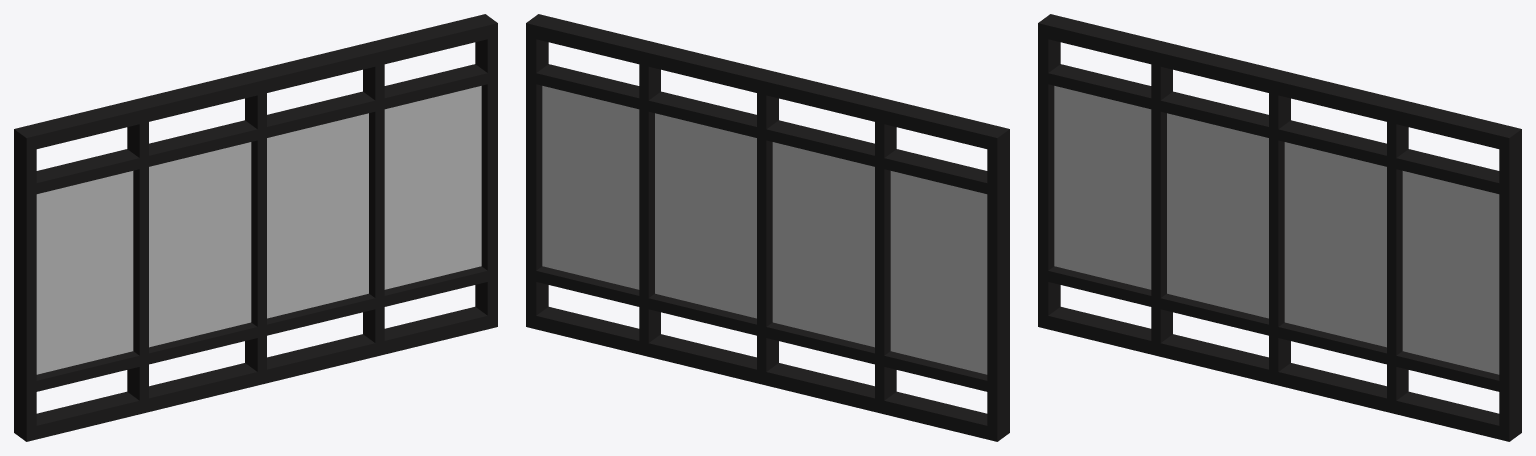
The model's file is LC_3004_false_wall_LOD1.FBX.
3 renders of one model, left to right at view 1: azimuth 30°, elevation 25°; view 2: azimuth 150°, elevation 25°; view 3: azimuth 330°, elevation 25°, orthographic.
Visible parts, largest first — view 1: LC_3004_false_wall_Glass_LOD1, LC_3004_false_wall_LOD1; view 2: LC_3004_false_wall_Glass_LOD1, LC_3004_false_wall_LOD1; view 3: LC_3004_false_wall_Glass_LOD1, LC_3004_false_wall_LOD1.
Part boxes in pixels (bbox=[...]): LC_3004_false_wall_Glass_LOD1: bbox=[36, 86, 481, 374]; LC_3004_false_wall_LOD1: bbox=[14, 14, 497, 441]; LC_3004_false_wall_Glass_LOD1: bbox=[542, 86, 987, 374]; LC_3004_false_wall_LOD1: bbox=[526, 14, 1009, 441]; LC_3004_false_wall_Glass_LOD1: bbox=[1054, 86, 1499, 374]; LC_3004_false_wall_LOD1: bbox=[1038, 14, 1521, 441].
Bounding box in the file's own units: 179 × 110 × 8.19.
